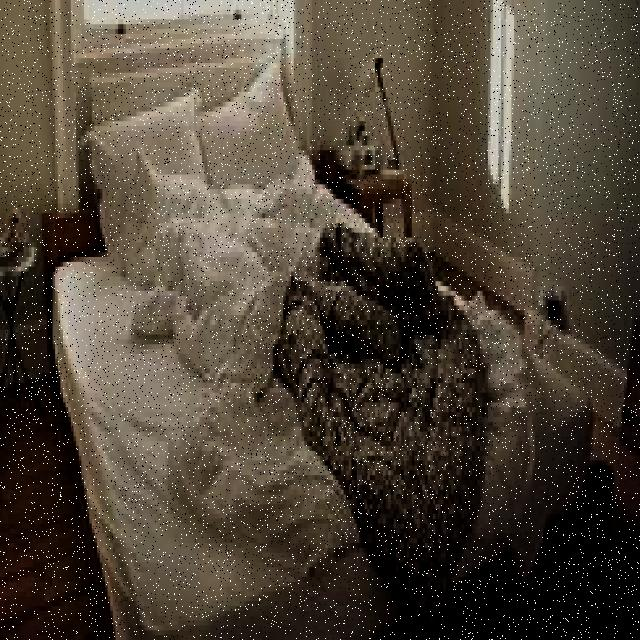bed: (76, 103, 559, 606)
